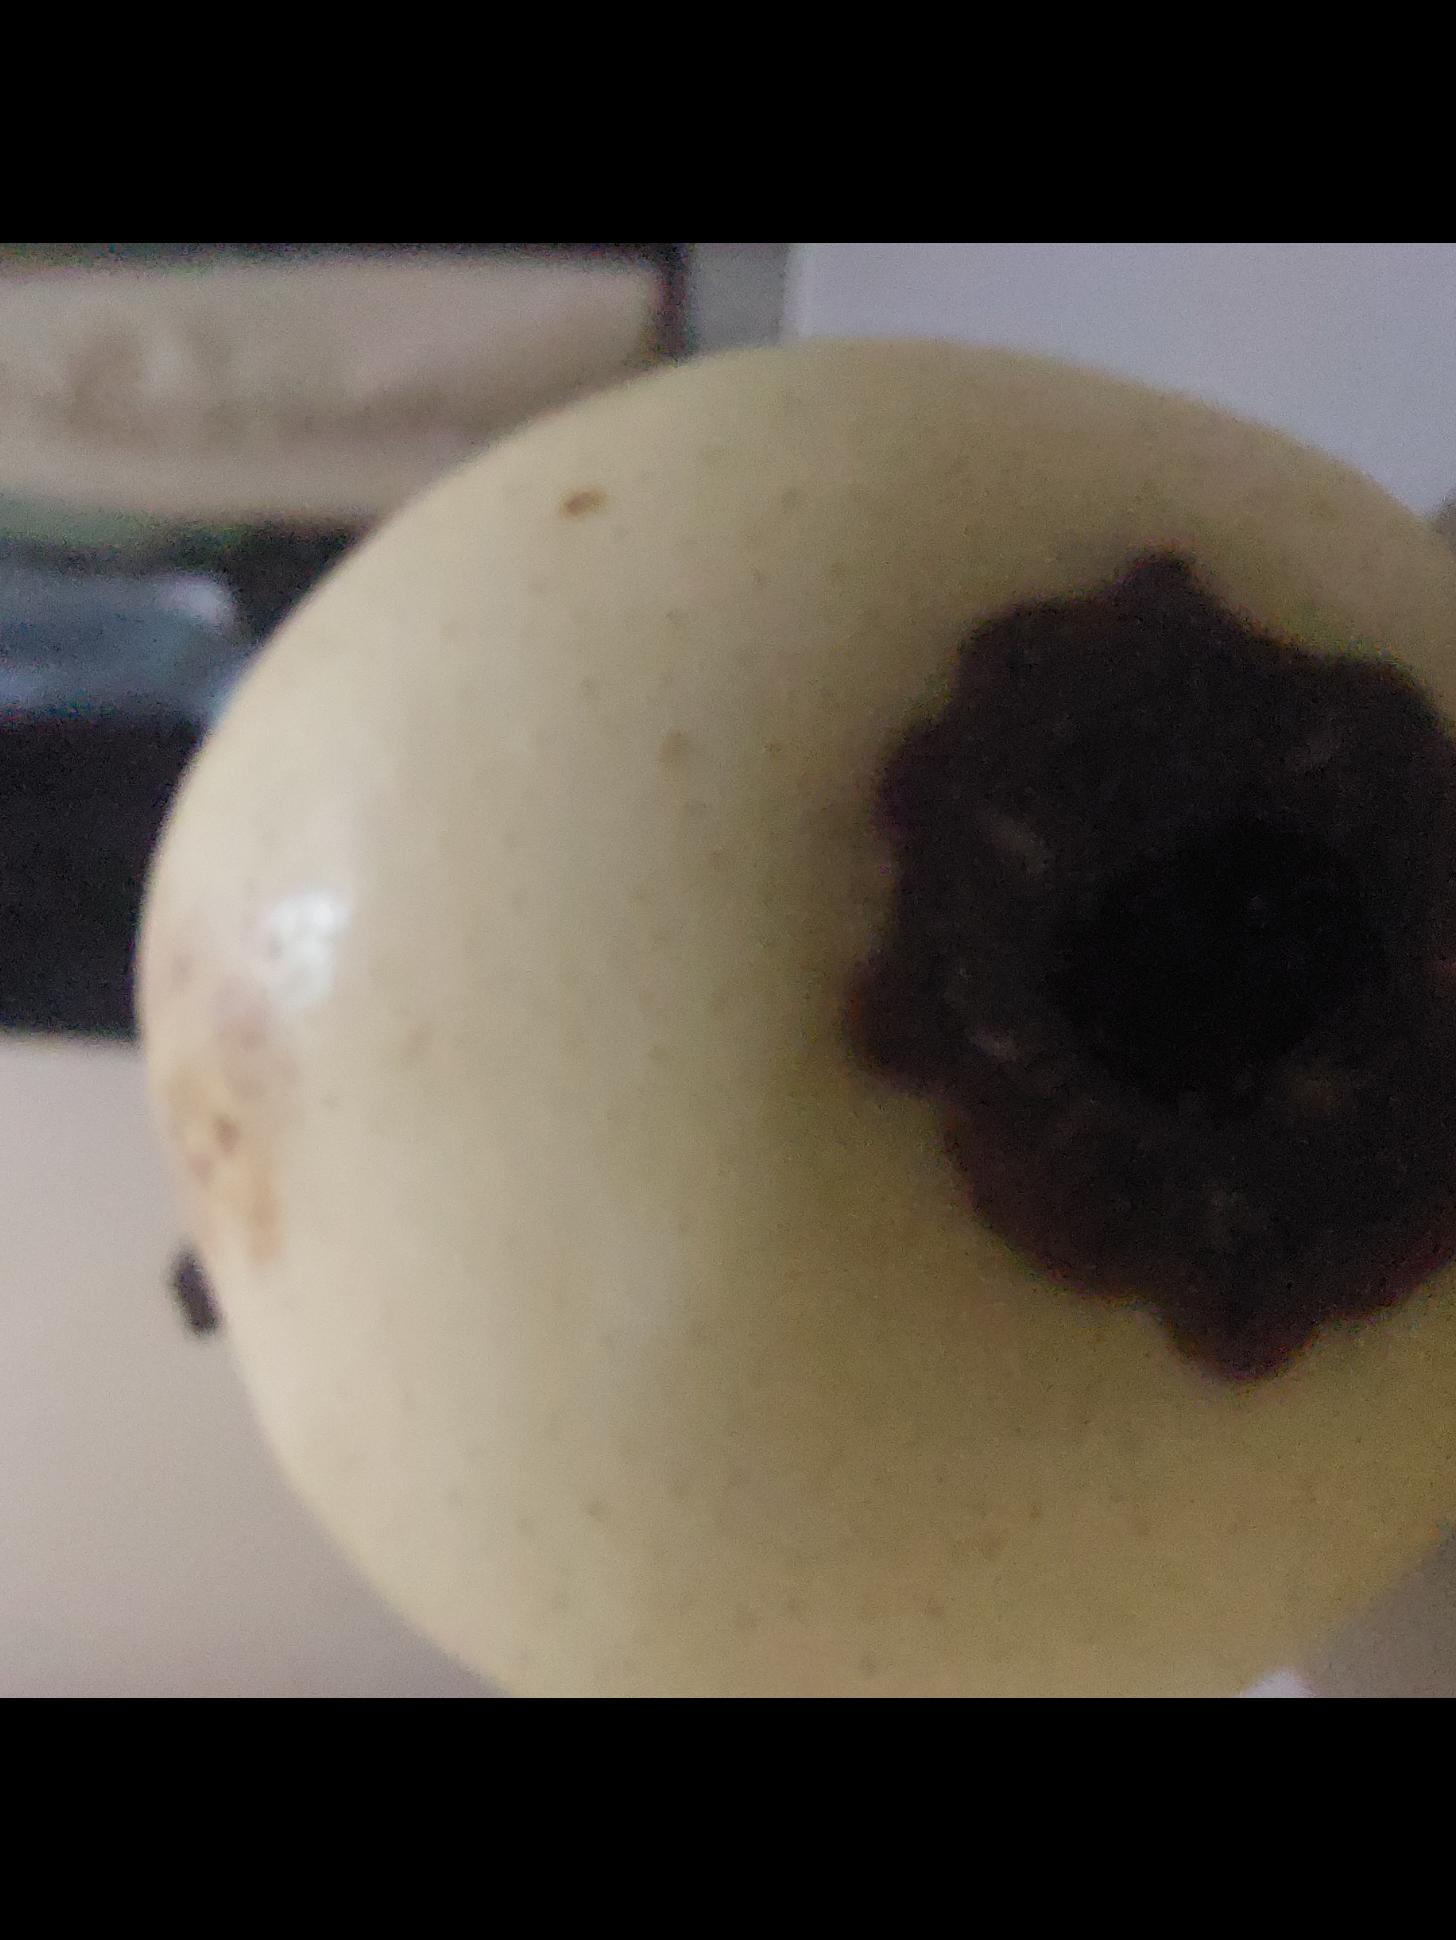Bad Pear: (115, 323, 1456, 1698)
